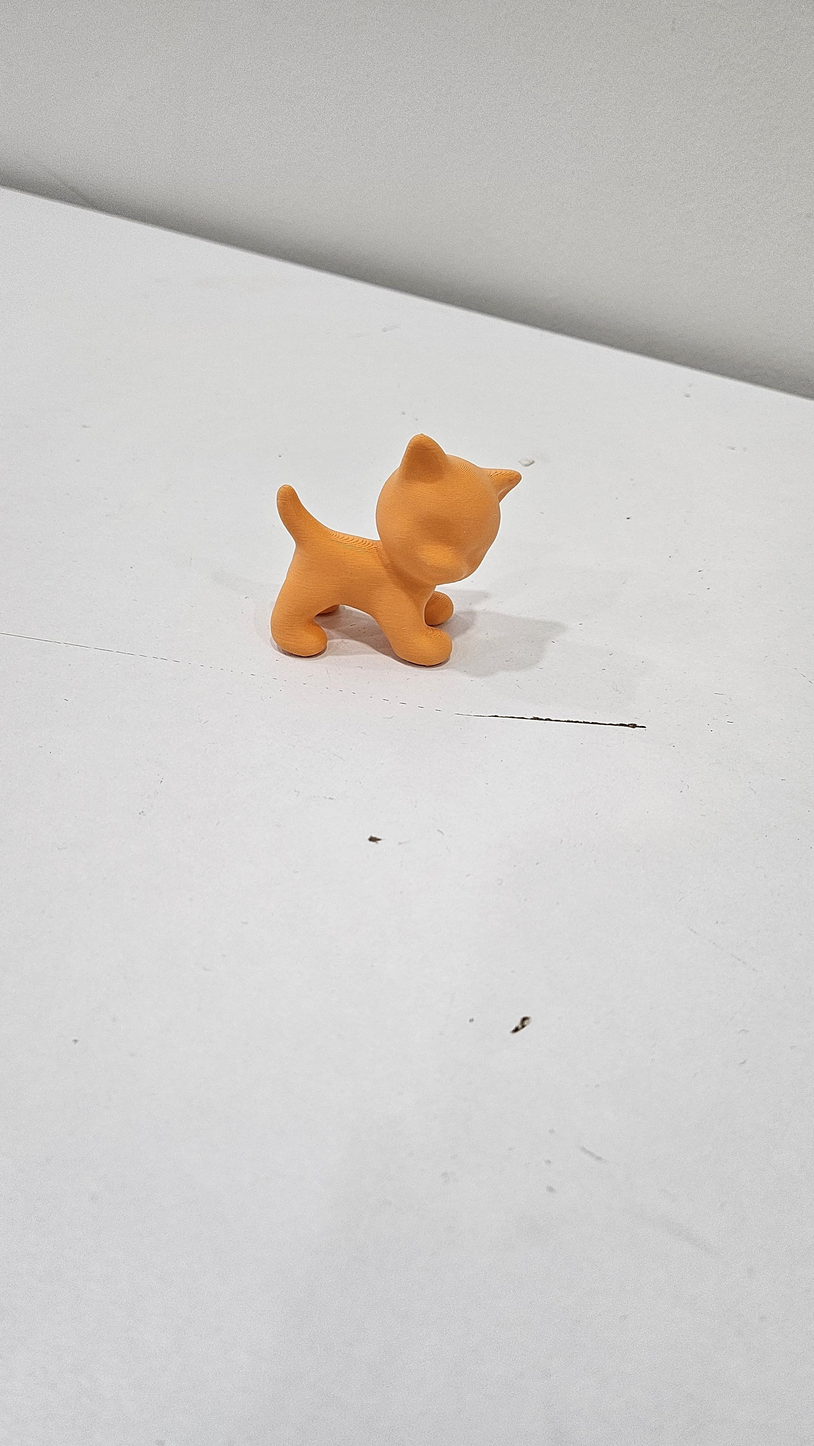cat: (266, 427, 524, 670)
